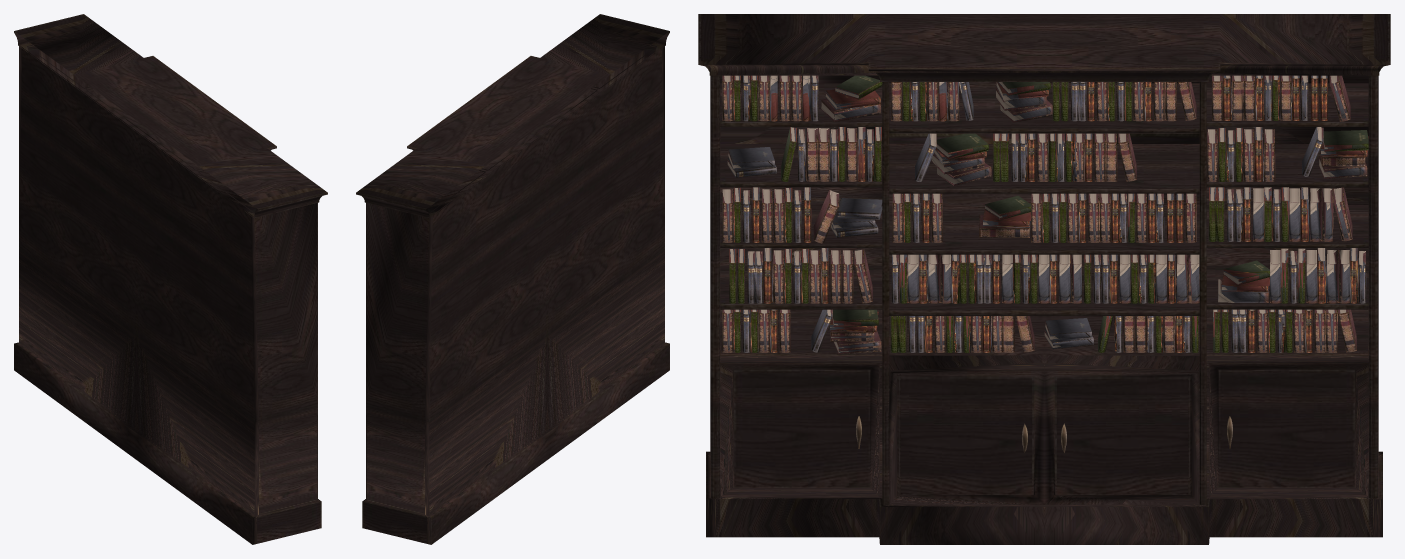
The model's file is bookshelf_optimised.glb.
3 views of the same model, side by side, from view 1: azimuth 30°, elevation 25°; view 2: azimuth 150°, elevation 25°; view 3: azimuth 270°, elevation 25° (orthographic). The views are drawn at different scales.
Bounding box in the file's own units: 0.5817 × 2.29 × 3.01.
1 material, 1 textured.
